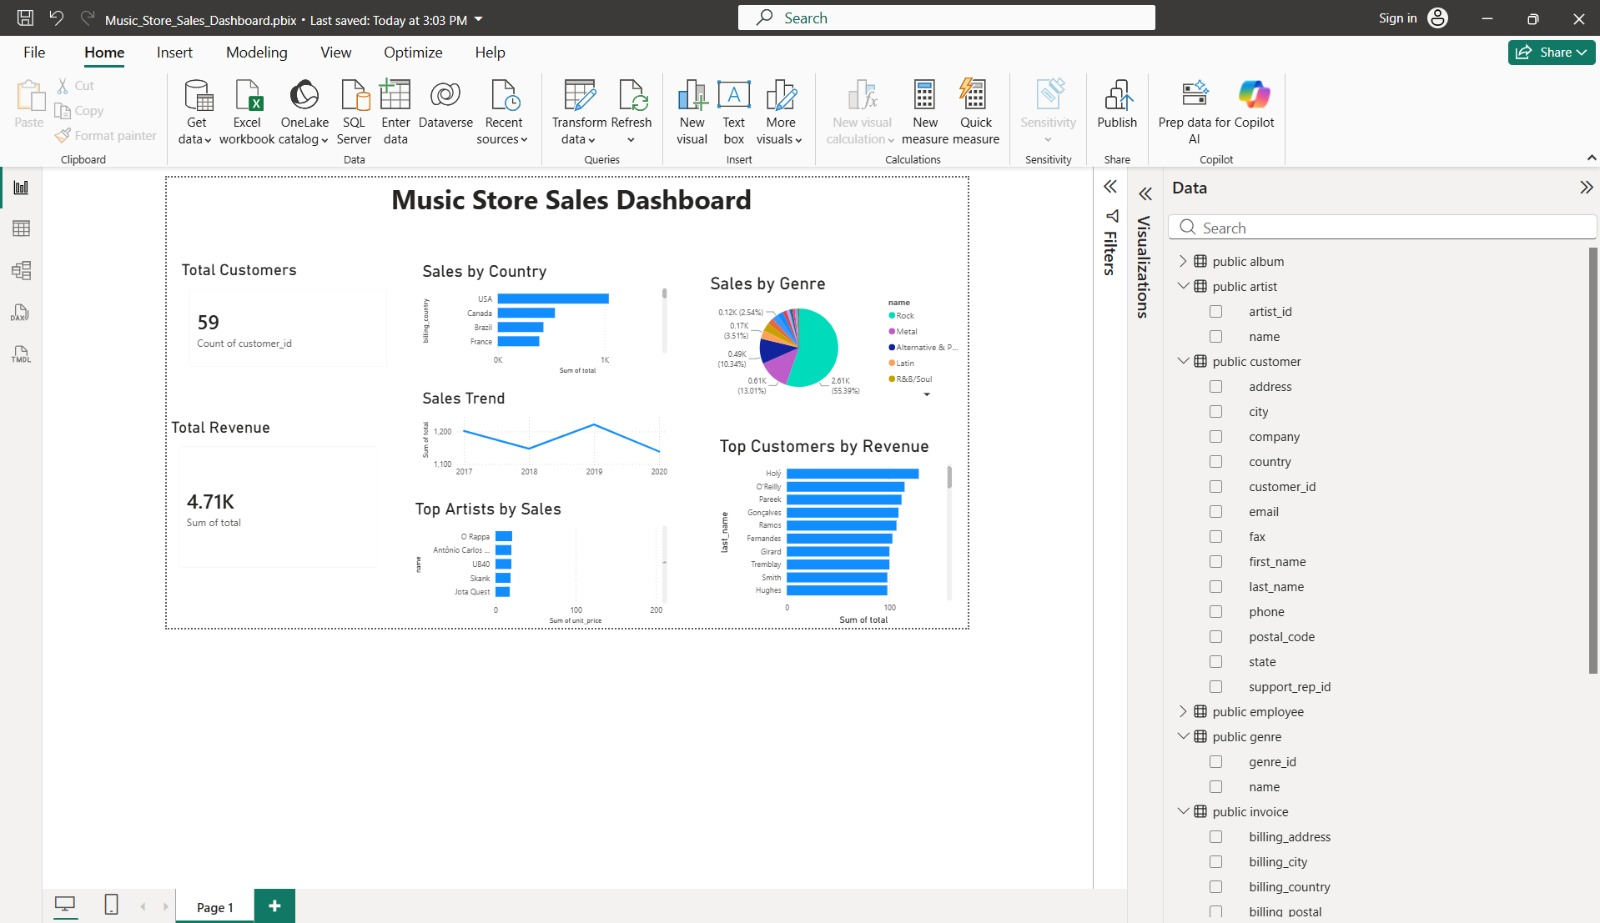

The dashboard page shown, as its layout file describes it:
{"tool":"powerbi","page":{"name":"Page 1","canvas":[1280,720],"ordinal":0},"visuals":[{"type":"cardVisual","title":"Total Customers","fields":{"Data":["CountNonNull(public customer.customer_id)"]},"box":[18.3,133.3,351.7,186.7],"z":0},{"type":"cardVisual","title":"Total Revenue","fields":{"Data":["Sum(public invoice.total)"]},"box":[1.7,385,351.7,256.7],"z":1000},{"type":"clusteredBarChart","title":"Sales by Country","fields":{"Category":["public invoice.billing_country"],"Y":["Sum(public invoice.total)"]},"box":[403.3,133.3,401.7,186.7],"z":2000},{"type":"pieChart","title":"Sales by Genre","fields":{"Category":["public genre.name"],"Y":["Sum(public invoice_line.unit_price)"]},"box":[863.3,153.3,416.7,206.7],"z":3000},{"type":"clusteredBarChart","title":"Top Customers by Revenue","fields":{"Category":["public customer.last_name","public customer.first_name"],"Y":["Sum(public invoice.total)"]},"box":[878.3,413.3,381.7,306.7],"z":3001},{"type":"lineChart","title":"Sales Trend","fields":{"Category":["public invoice.invoice_date.Variation.Date Hierarchy.Year","public invoice.invoice_date.Variation.Date Hierarchy.Quarter","public invoice.invoice_date.Variation.Date Hierarchy.Month","public invoice.invoice_date.Variation.Date Hierarchy.Day"],"Y":["Sum(public invoice.total)"]},"box":[403.3,338.3,401.7,150],"z":3002},{"type":"clusteredBarChart","title":"Top Artists by Sales","fields":{"Category":["public artist.name"],"Y":["Sum(public invoice_line.unit_price)"]},"box":[391.7,513.3,413.3,206.7],"z":3003},{"type":"textbox","box":[353.3,0,690,108.3],"z":3004}]}

Visuals, with their boxes on the page's 1280x720 design canvas (x1, y1, x2, y2). These are canvas units, not pixel positions in the 1600x923 screenshot, which may show the page scaled, cropped or inside an application window:
"Total Customers" cardVisual: locate(18, 133, 370, 320)
"Total Revenue" cardVisual: locate(2, 385, 353, 642)
"Sales by Country" clusteredBarChart: locate(403, 133, 805, 320)
"Sales by Genre" pieChart: locate(863, 153, 1280, 360)
"Top Customers by Revenue" clusteredBarChart: locate(878, 413, 1260, 720)
"Sales Trend" lineChart: locate(403, 338, 805, 488)
"Top Artists by Sales" clusteredBarChart: locate(392, 513, 805, 720)
textbox: locate(353, 0, 1043, 108)
